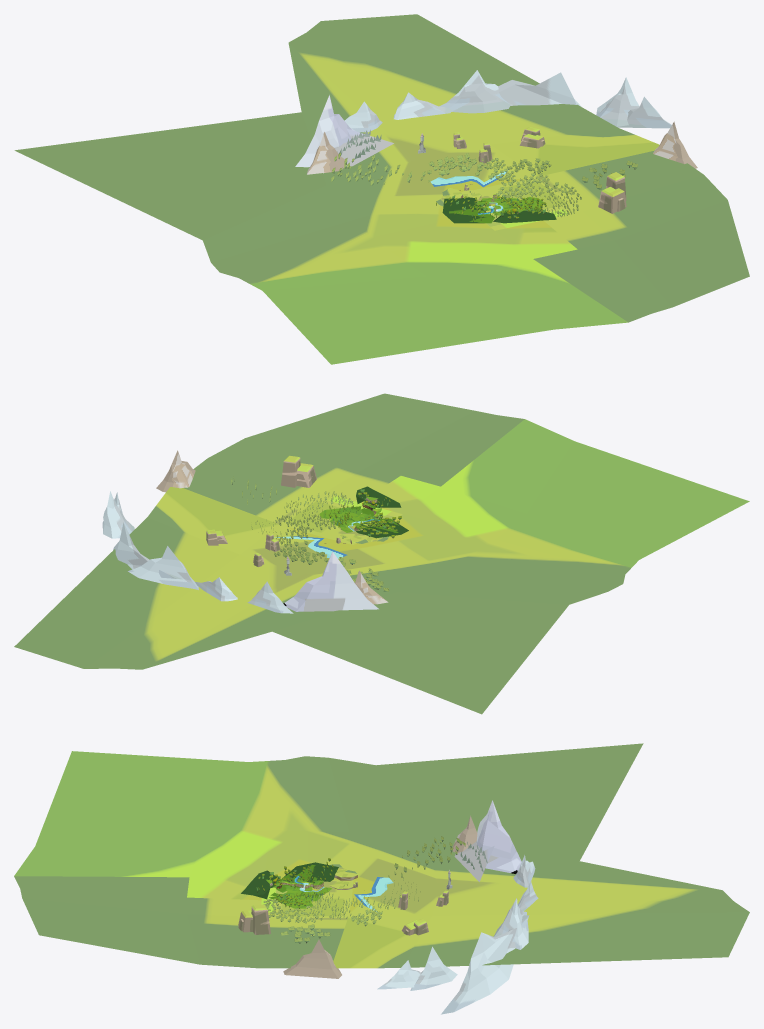
The model's file is V3Emissive.glb.
3 views of the same model, one above another, from view 1: azimuth 30°, elevation 25°; view 2: azimuth 150°, elevation 25°; view 3: azimuth 270°, elevation 25° (orthographic). The views are drawn at different scales.
Visible parts, largest first — view 1: Plane; view 2: Plane; view 3: Plane.
Boxes of the visible parts, bbox=[...] form: Plane: bbox=[14, 14, 749, 364]; Plane: bbox=[14, 393, 749, 714]; Plane: bbox=[14, 743, 749, 1014].
Size of the model in its own units: 2395 by 451 by 3062.
Materials: 2 (2 with a texture image).
